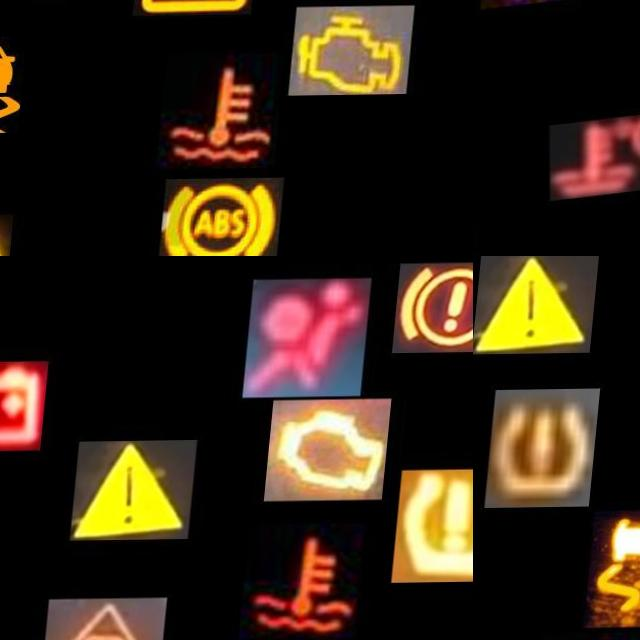Central Warning lamp: (79, 441, 205, 541), (475, 256, 600, 355)
Engine cooling system: (249, 524, 376, 640), (165, 55, 291, 171), (549, 112, 640, 201)
